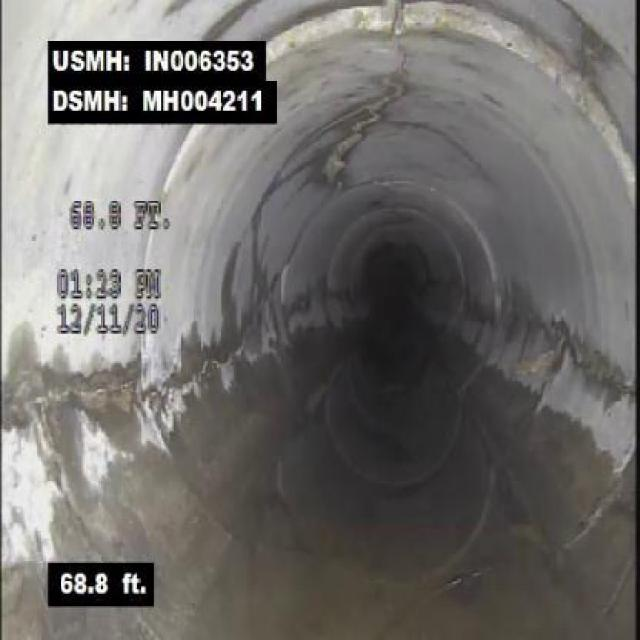Buckling: (326, 95, 399, 177)
Crack: (0, 367, 138, 449), (140, 352, 231, 406), (566, 338, 634, 404), (383, 37, 420, 92)
Joint offset: (419, 3, 603, 115), (268, 3, 384, 62)
